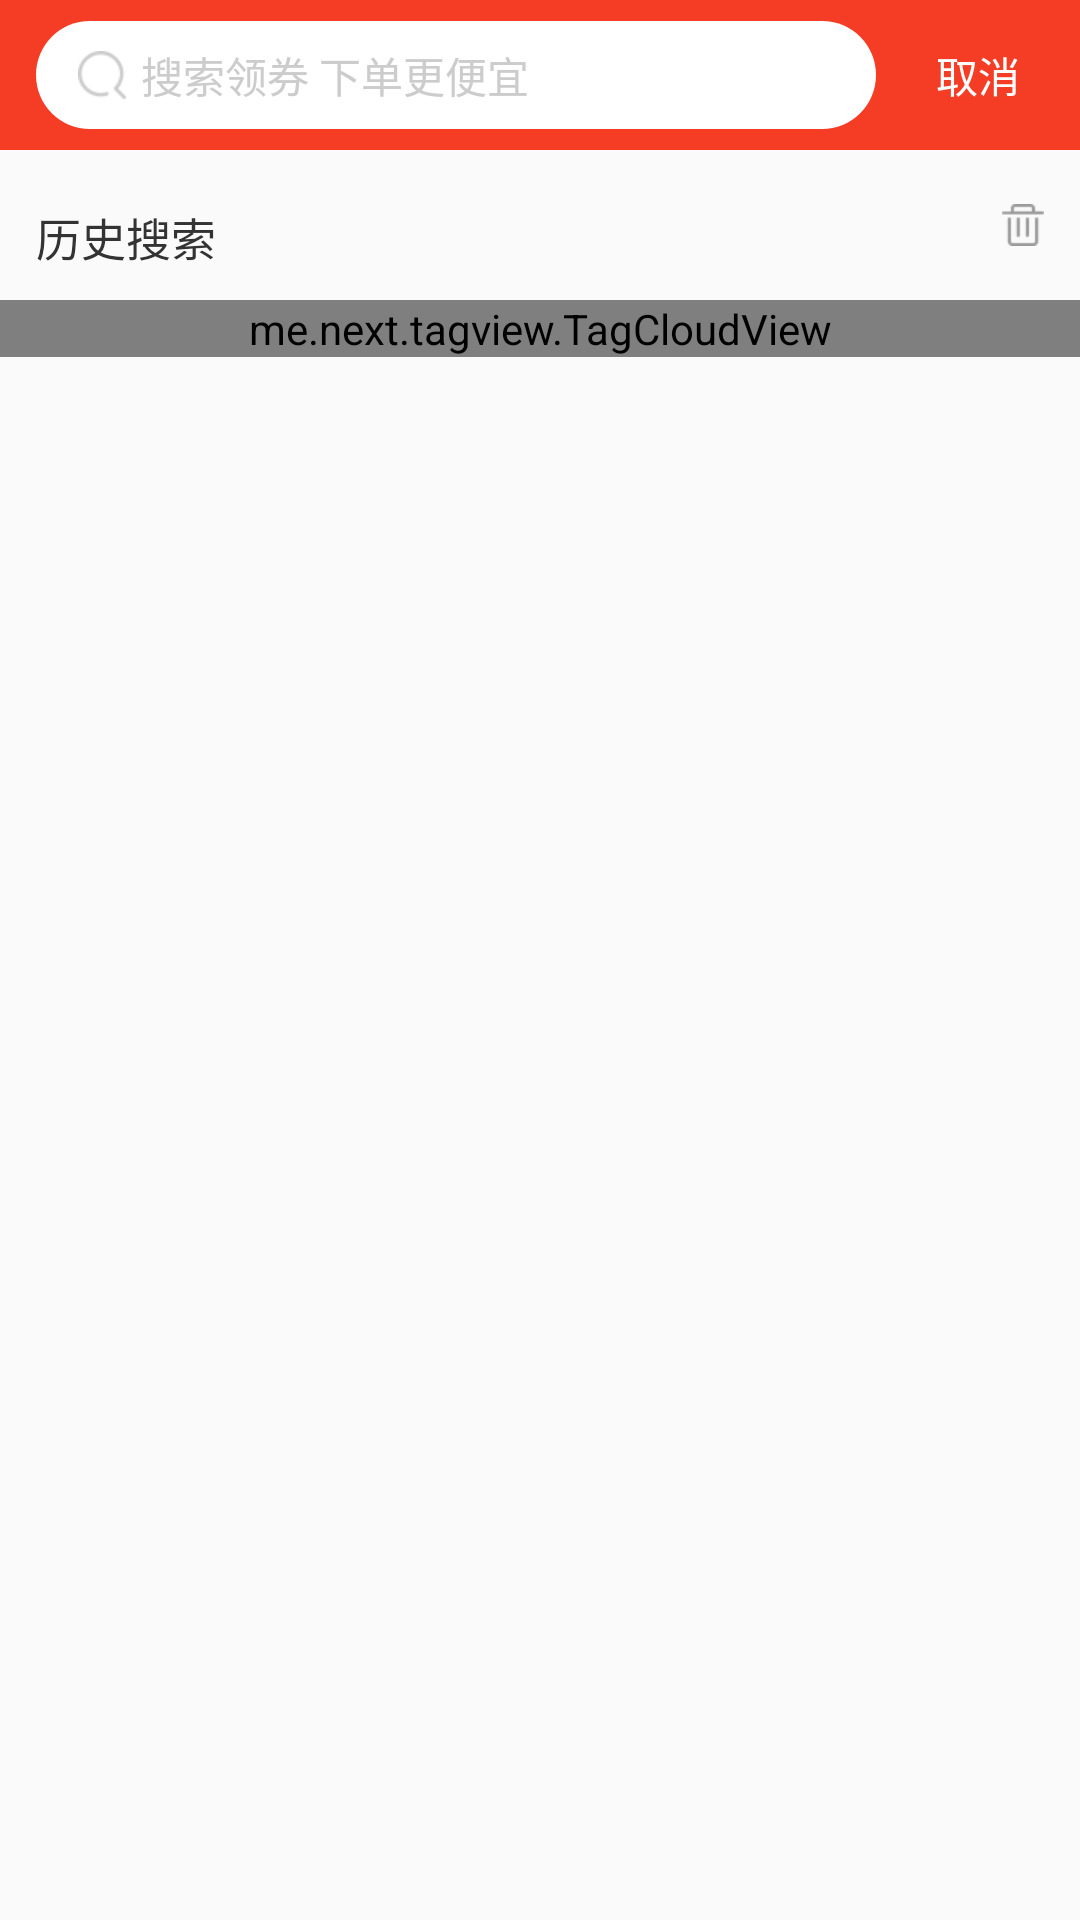

Icons on this 1080 × 1920 Android screen, each with the point to tap as point (x, y):
bynad sdk search clean: point (1023, 225)
